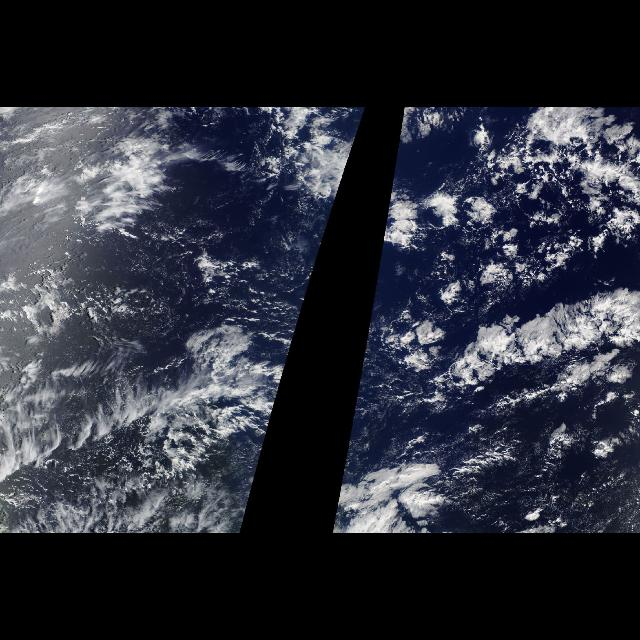Fish: (11, 122, 218, 526)
Flower: (353, 111, 632, 401), (228, 111, 368, 401)
Gravel: (12, 358, 286, 528), (401, 149, 637, 297)
